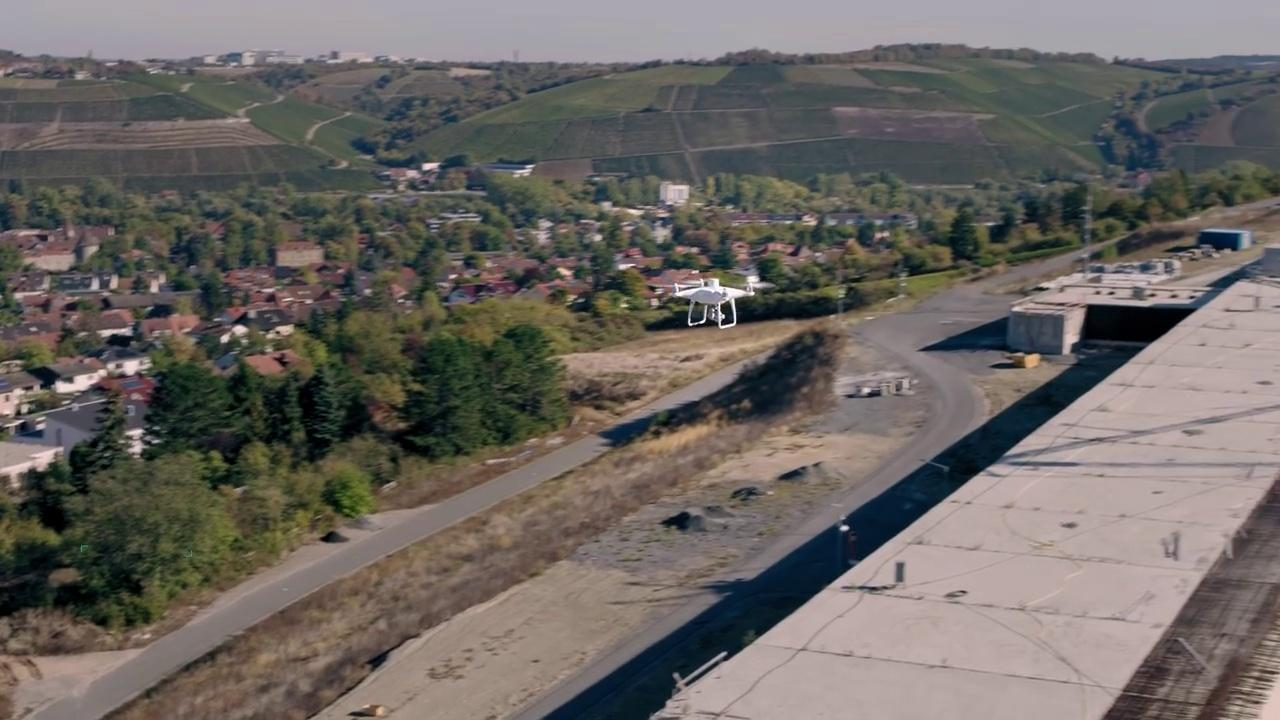drone: (654, 272, 777, 330)
